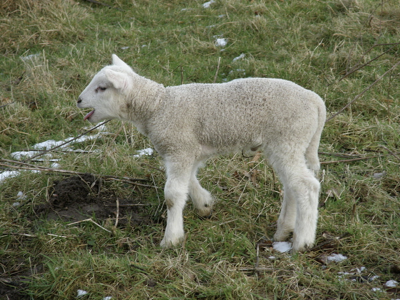koyun: (77, 52, 324, 253)
